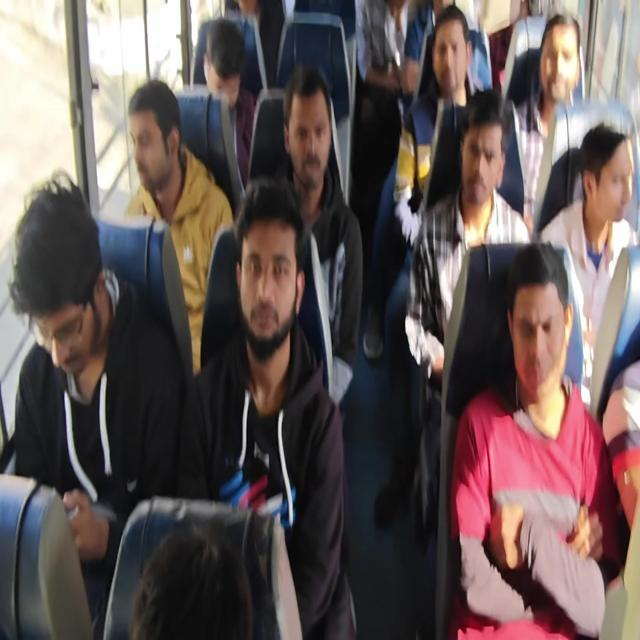person: (0, 163, 118, 379), (234, 188, 320, 360), (500, 257, 570, 400), (122, 68, 175, 188), (584, 130, 633, 240), (282, 83, 333, 179), (201, 31, 241, 98)
